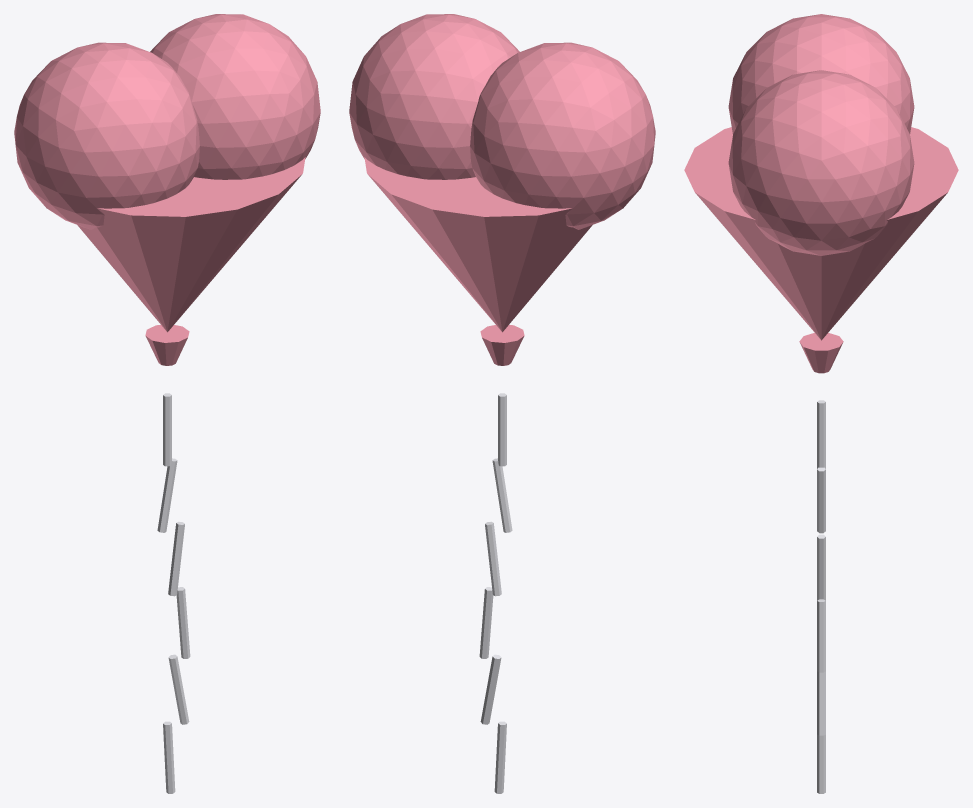
File: balloon_heart.fbx
3 renders of one model, left to right at view 1: azimuth 30°, elevation 25°; view 2: azimuth 150°, elevation 25°; view 3: azimuth 270°, elevation 25°, orthographic. The views are drawn at different scales.
Parts seen in each view (by area): view 1: LobeL, LobeR, Point, Knot, String2, String1, String5, String3, String4, String0; view 2: LobeL, LobeR, Point, Knot, String2, String1, String5, String3, String4, String0; view 3: LobeR, Point, LobeL, Knot, String3, String0, String1, String2, String4, String5.
Part boxes in pixels (x1=…): LobeL: x1=14, y1=42, x2=199, y2=229; LobeR: x1=150, y1=14, x2=320, y2=179; Point: x1=77, y1=157, x2=305, y2=332; Knot: x1=145, y1=325, x2=189, y2=365; String2: x1=168, y1=521, x2=184, y2=596; String1: x1=157, y1=458, x2=177, y2=532; String5: x1=163, y1=721, x2=175, y2=793; String3: x1=176, y1=587, x2=190, y2=658; String4: x1=168, y1=654, x2=189, y2=724; String0: x1=163, y1=393, x2=171, y2=466; LobeL: x1=470, y1=42, x2=655, y2=229; LobeR: x1=349, y1=14, x2=519, y2=179; Point: x1=364, y1=157, x2=592, y2=332; Knot: x1=480, y1=325, x2=524, y2=365; String2: x1=485, y1=521, x2=501, y2=596; String1: x1=492, y1=458, x2=512, y2=532; String5: x1=494, y1=721, x2=506, y2=793; String3: x1=479, y1=587, x2=493, y2=658; String4: x1=480, y1=654, x2=501, y2=724; String0: x1=498, y1=393, x2=506, y2=466; LobeR: x1=728, y1=70, x2=914, y2=255; Point: x1=684, y1=127, x2=958, y2=340; LobeL: x1=728, y1=14, x2=914, y2=133; Knot: x1=799, y1=332, x2=843, y2=373; String3: x1=817, y1=599, x2=825, y2=672; String0: x1=817, y1=400, x2=825, y2=468; String1: x1=817, y1=467, x2=825, y2=533; String2: x1=817, y1=534, x2=825, y2=600; String4: x1=817, y1=671, x2=825, y2=735; String5: x1=817, y1=734, x2=825, y2=793.
Size of the model in its own units: 1.44 by 3.69 by 1.24.
